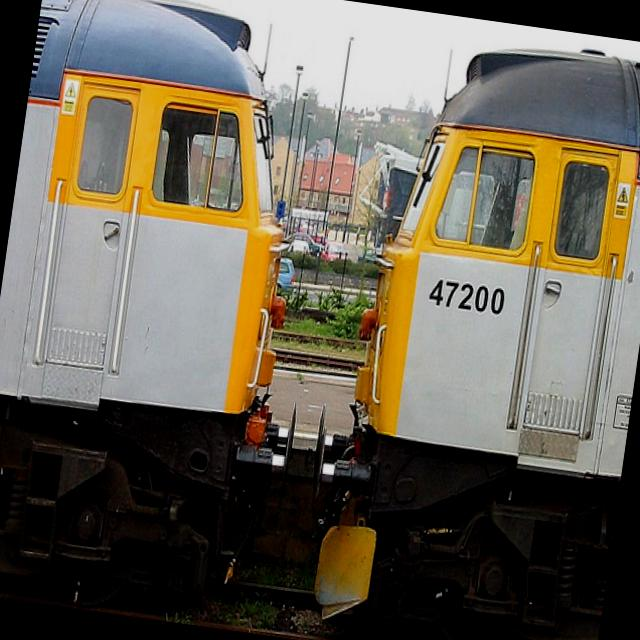Vehicle: (286, 230, 328, 254), (276, 258, 296, 296), (288, 240, 311, 254)
